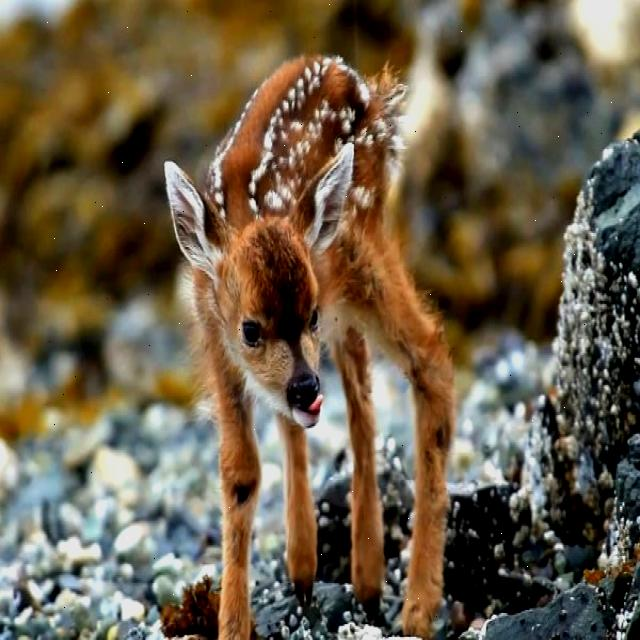deer: (176, 116, 377, 464)
